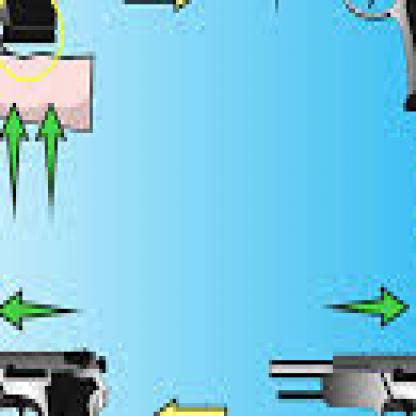gun: (237, 0, 413, 133)
